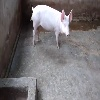heo: (30, 3, 73, 52)
